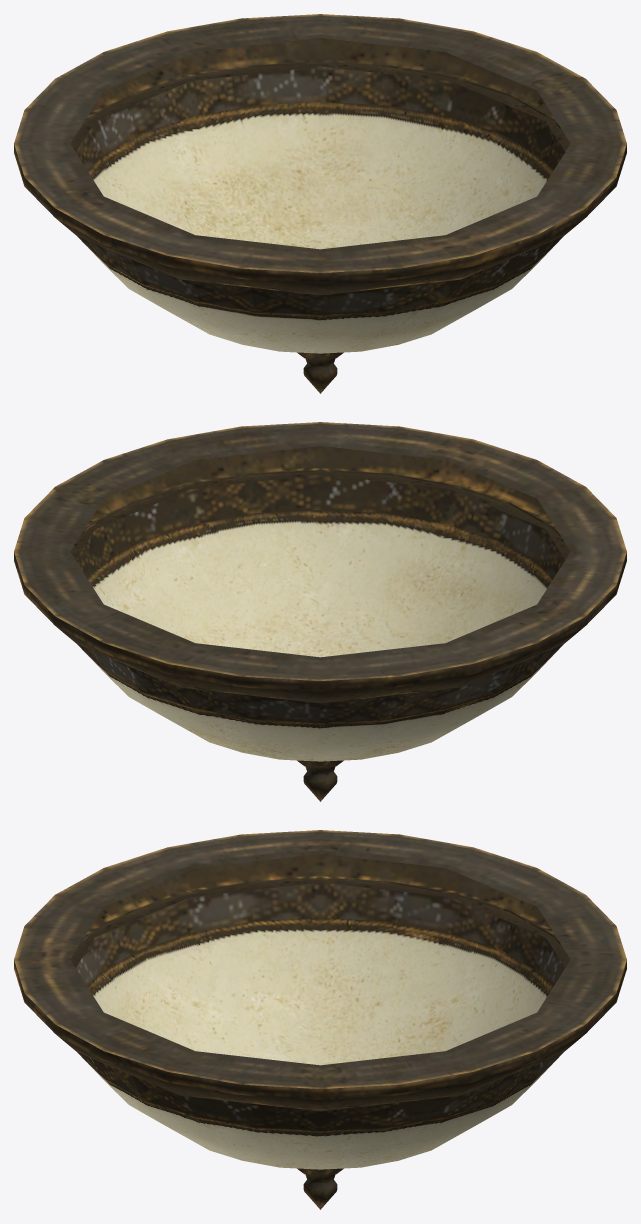
File: sm35_007_CeilingLight.fbx
3 views of the same model, one above another, from view 1: azimuth 30°, elevation 25°; view 2: azimuth 150°, elevation 25°; view 3: azimuth 270°, elevation 25° (orthographic).
Visible parts, largest first — view 1: LOD_1_Group_0_Sub_1__sm35_007_CeilingLight01A_A_Mat, LOD_1_Group_0_Sub_2__sm35_007_CeilingLight01A_A_Mat__En_c864; view 2: LOD_1_Group_0_Sub_1__sm35_007_CeilingLight01A_A_Mat, LOD_1_Group_0_Sub_2__sm35_007_CeilingLight01A_A_Mat__En_c864; view 3: LOD_1_Group_0_Sub_1__sm35_007_CeilingLight01A_A_Mat, LOD_1_Group_0_Sub_2__sm35_007_CeilingLight01A_A_Mat__En_c864.
Part boxes in pixels (x1,y1,x2,y2): LOD_1_Group_0_Sub_1__sm35_007_CeilingLight01A_A_Mat: [14, 14, 626, 393]; LOD_1_Group_0_Sub_2__sm35_007_CeilingLight01A_A_Mat__En_c864: [79, 102, 561, 353]; LOD_1_Group_0_Sub_1__sm35_007_CeilingLight01A_A_Mat: [14, 422, 626, 801]; LOD_1_Group_0_Sub_2__sm35_007_CeilingLight01A_A_Mat__En_c864: [79, 510, 561, 761]; LOD_1_Group_0_Sub_1__sm35_007_CeilingLight01A_A_Mat: [14, 830, 626, 1209]; LOD_1_Group_0_Sub_2__sm35_007_CeilingLight01A_A_Mat__En_c864: [79, 918, 561, 1169].
Size of the model in its own units: 0.5443 by 0.2453 by 0.5443.
